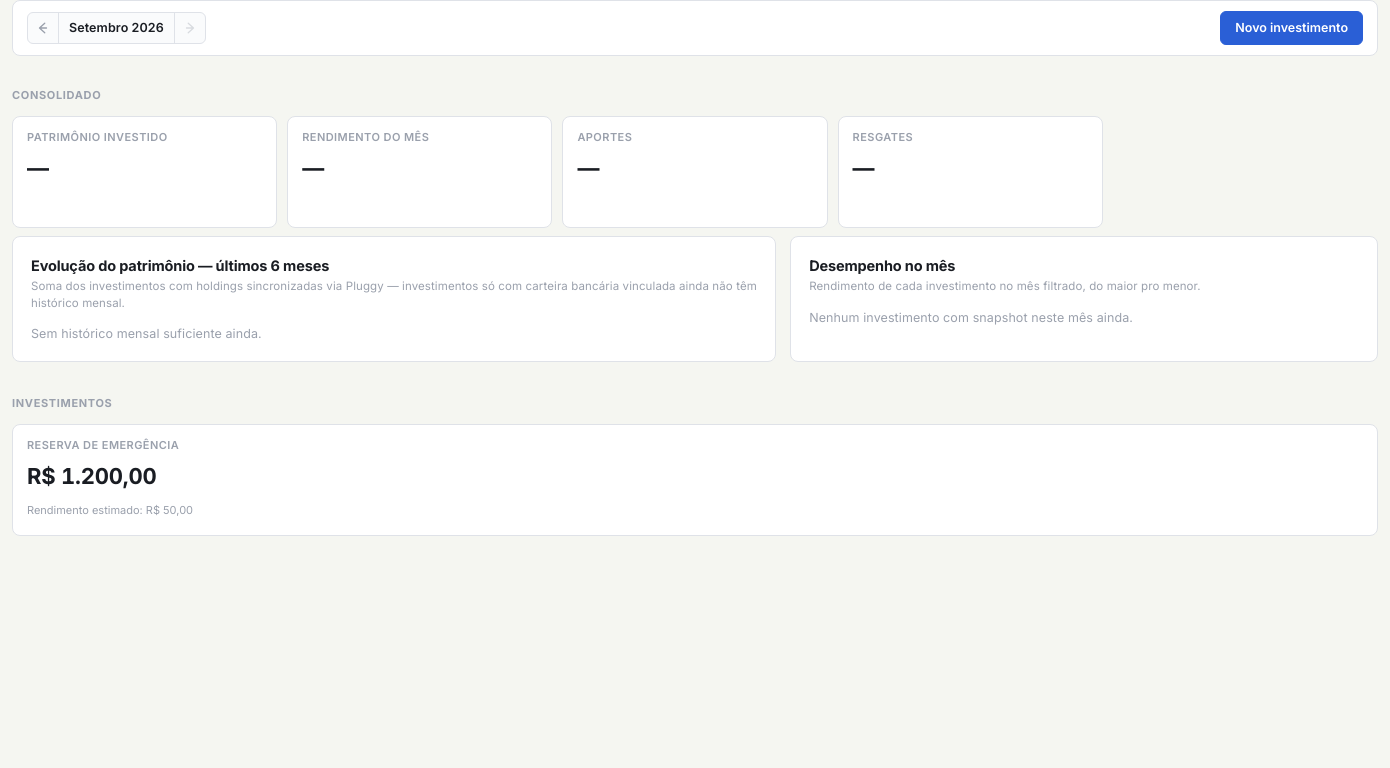
Test: InvestimentosPage › clicking an investimento tile opens the funil defaulting to Posições
The width and height of the screenshot is (1390, 768).
expect the text "Reserva de emergência" is shown: met, box [27,438,179,454]
Click the button "Reserva de emergência".
click(695, 480)  # box [12,424,1378,536]
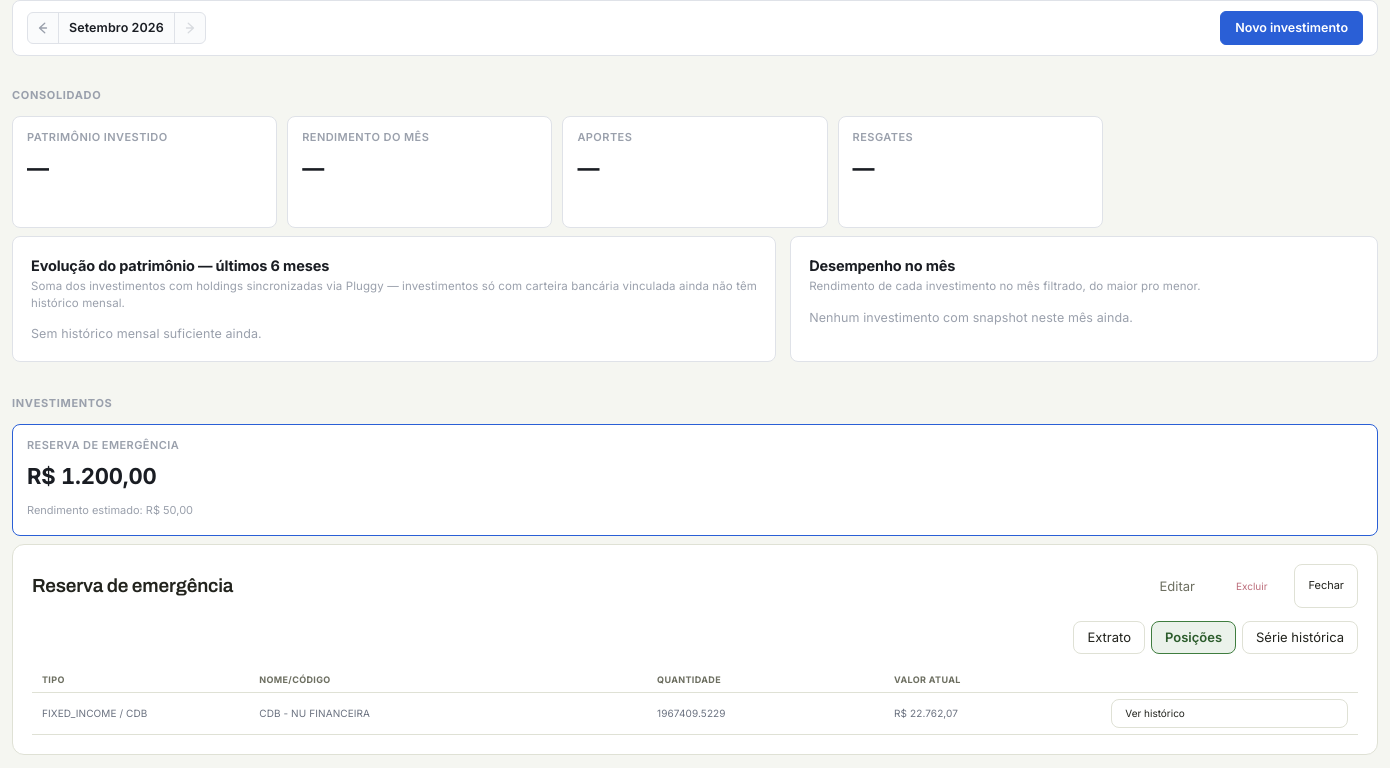
expect the text "CDB - NU FINANCEIRA" is shown: met, box [259,707,370,719]
